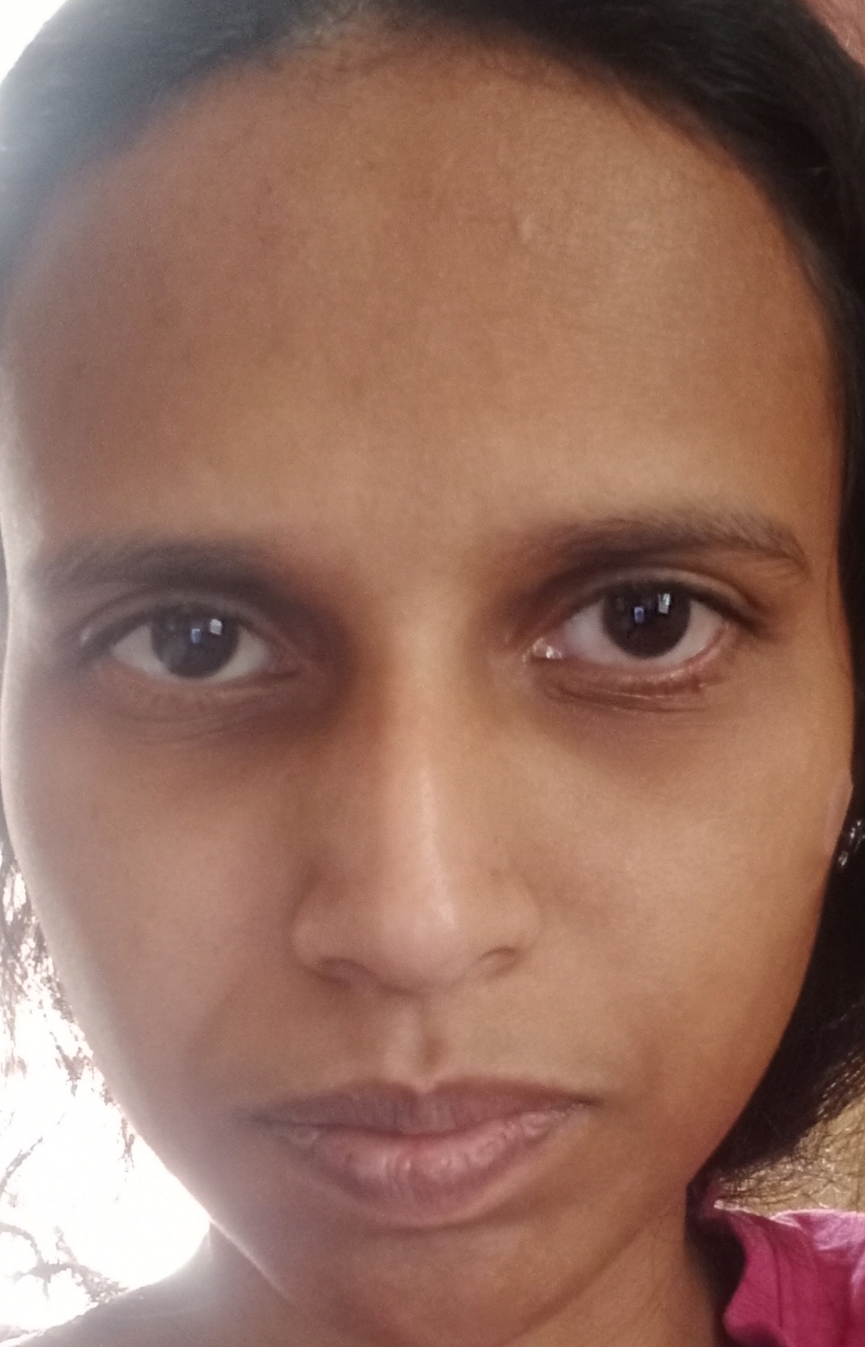papule: (481, 182, 555, 273)
